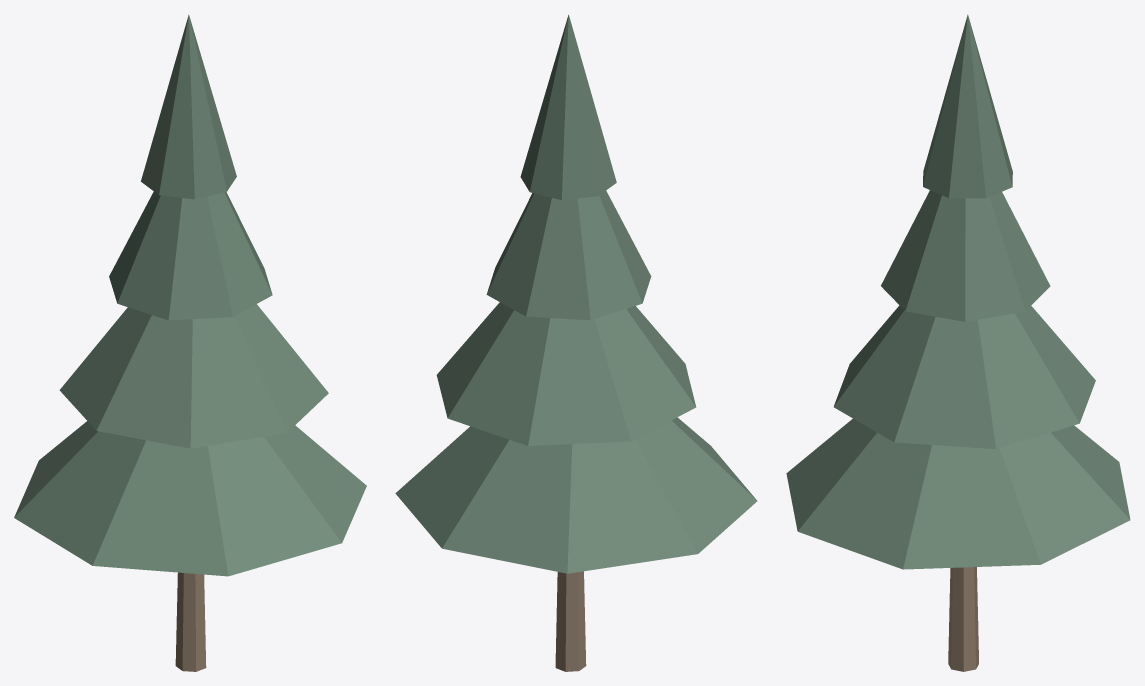
Rendered from node_tree_forest_0.glb.
3 renders of one model, left to right at view 1: azimuth 30°, elevation 25°; view 2: azimuth 150°, elevation 25°; view 3: azimuth 270°, elevation 25°, orthographic.
Visible parts, largest first — view 1: node_tree_forest_0; view 2: node_tree_forest_0; view 3: node_tree_forest_0.
Part boxes in pixels (bbox=[...]): node_tree_forest_0: bbox=[14, 14, 366, 671]; node_tree_forest_0: bbox=[395, 14, 757, 671]; node_tree_forest_0: bbox=[786, 14, 1130, 671].
Size of the model in its own units: 4.77 by 9.96 by 4.77.
